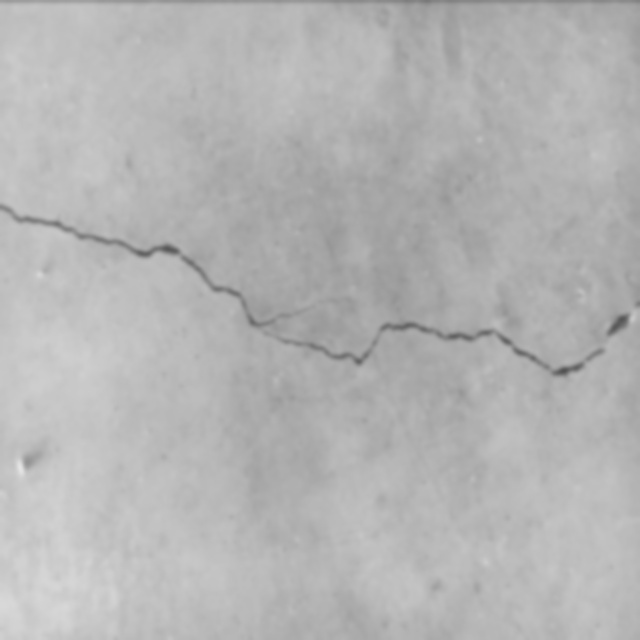SurfaceCrack: (1, 162, 640, 401)
